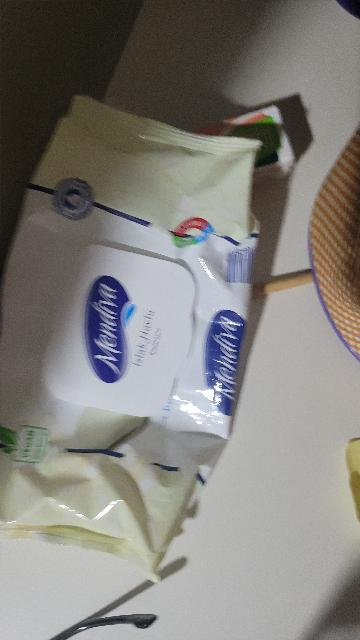Plastik: (2, 84, 266, 580)
